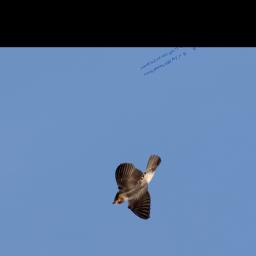Swallow: (96, 144, 182, 234)
